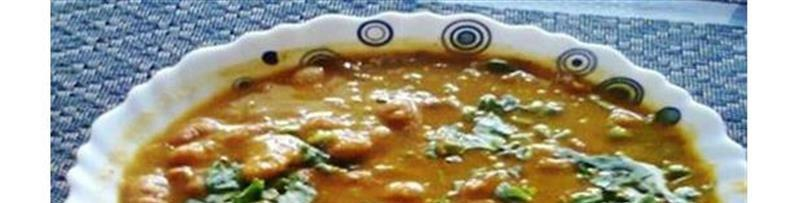RajmaCurry: (123, 51, 714, 203)
